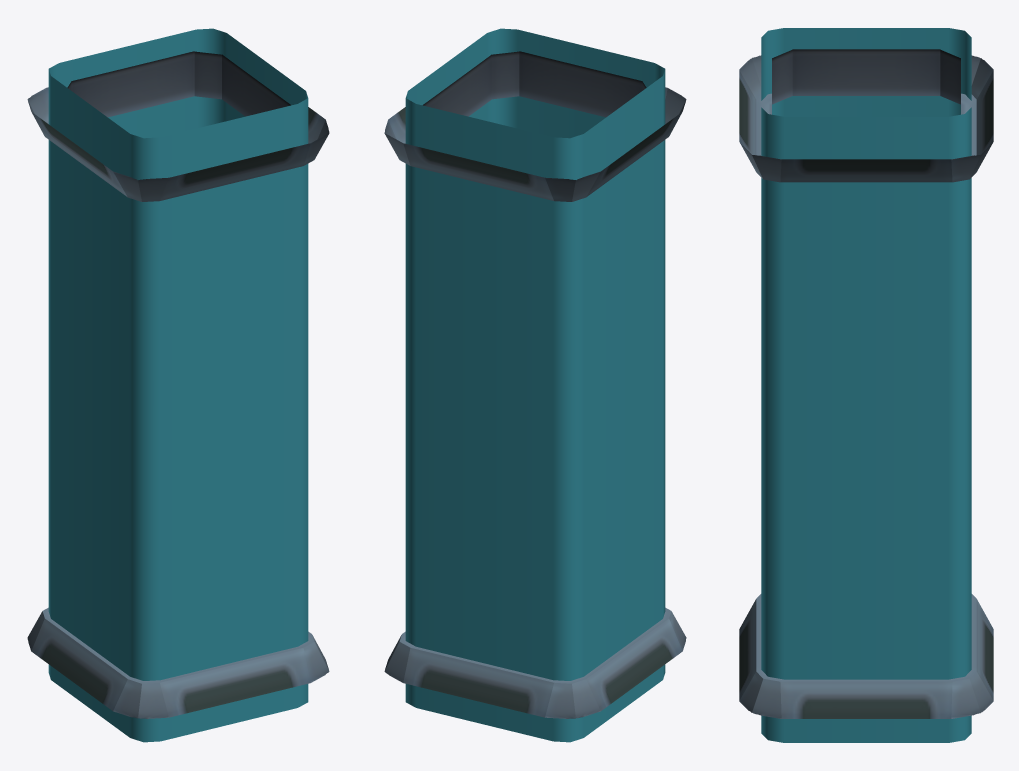
The model's file is obj_interactive_pipe5.fbx.
The picture shows the model from 3 angles, left to right: view 1: azimuth 30°, elevation 25°; view 2: azimuth 150°, elevation 25°; view 3: azimuth 270°, elevation 25°; orthographic projection. The views are drawn at different scales.
Parts seen in each view (by area): view 1: obj_interactive_pipe05; view 2: obj_interactive_pipe05; view 3: obj_interactive_pipe05.
Part boxes in pixels (left/top/right/bottom): obj_interactive_pipe05: left=27, top=28, right=329, bottom=742; obj_interactive_pipe05: left=384, top=28, right=686, bottom=742; obj_interactive_pipe05: left=739, top=28, right=993, bottom=742.
Bounding box in the file's own units: 2 × 5 × 2.
